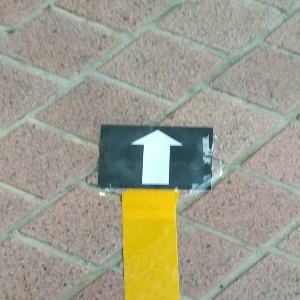straight: (99, 125, 212, 189)
